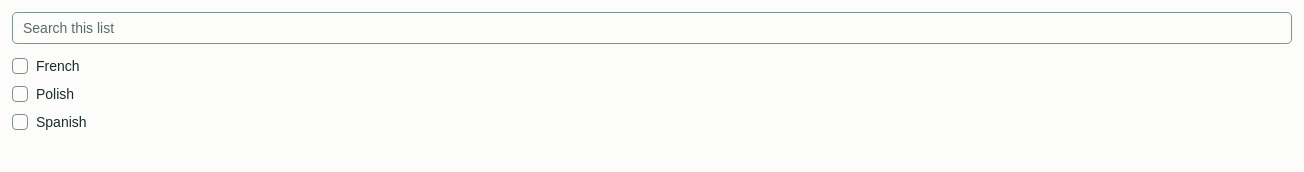
Test: CheckboxGroup › narrows a searchable list as you type
This screenshot has width=1304, height=172.
Type "pol" into the search field named "Search languages". click: coordinates (652, 28)
box: [12,12,1292,44]
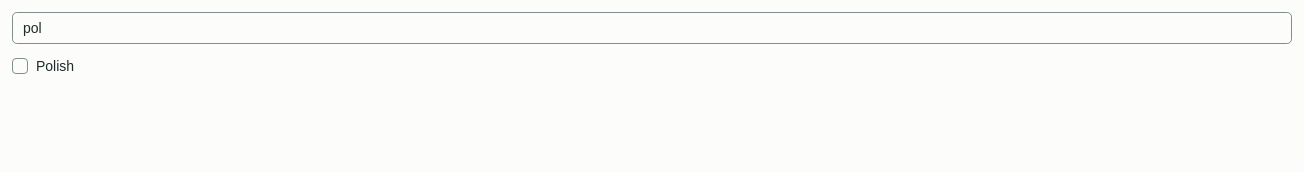
Expected: the number of checkboxes is 1, [12,58,28,74]
